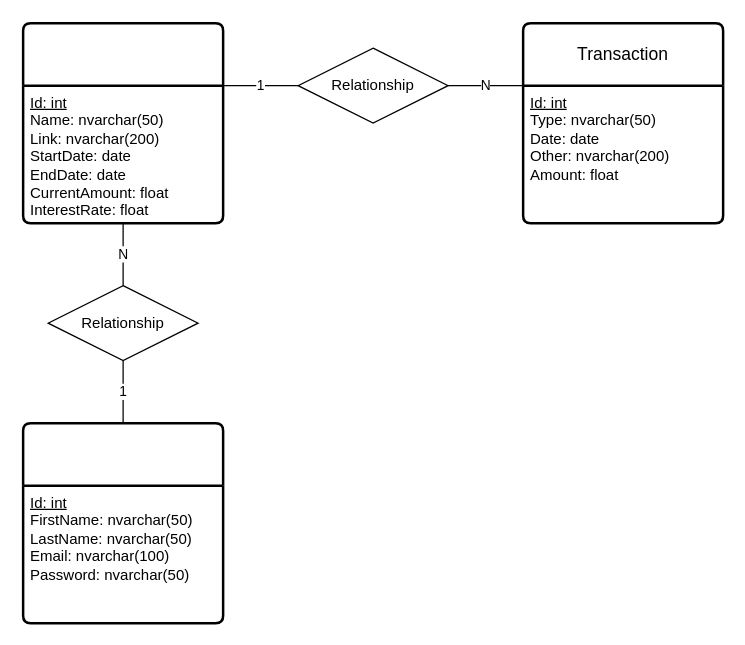
The diagram is 745 pixels wide and 645 high, and some of its shapes have lost their labels. The box of each missing label's shape, as (x1, y1, x2, y2) in pixels:
Bank: (21, 21, 224, 224)
User: (21, 421, 224, 624)
